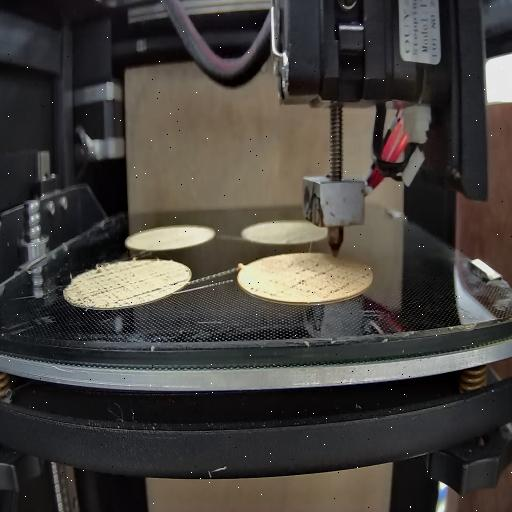under_extrusion: (286, 253, 370, 298), (70, 264, 162, 304), (246, 278, 280, 302), (169, 274, 190, 292)
